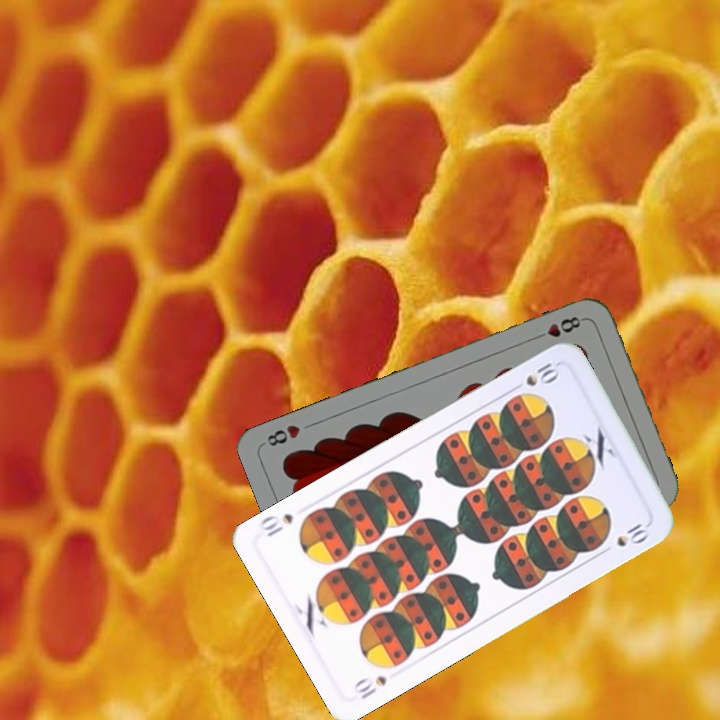H8: (530, 312, 587, 343)
S10: (507, 355, 562, 394), (349, 671, 390, 702)
